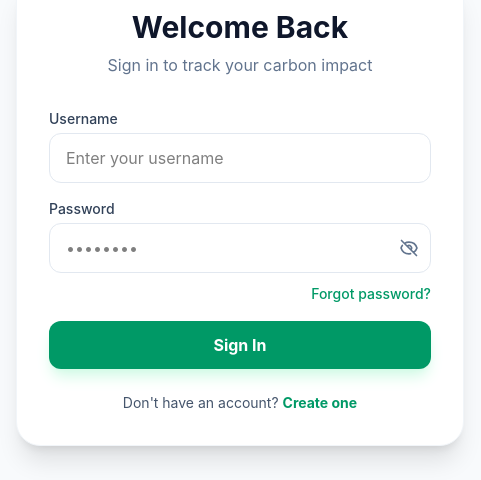
Test: LoginPage › disables submit button while submitting
In the field with placeholder "Enter your username": (240, 158) [49,133,431,183], type "testuser"
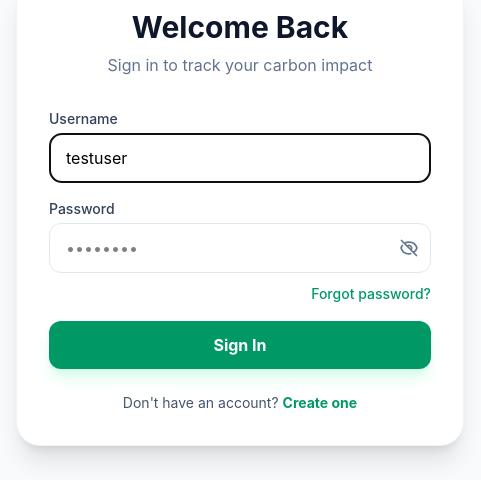
In the password field with placeholder "••••••••": (240, 248) [49,223,431,273], type "testpass"
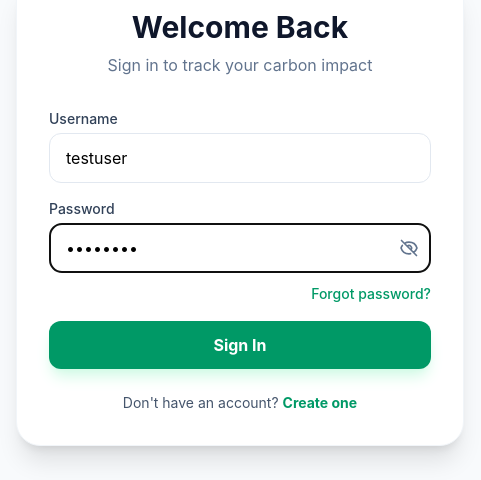
Click the button "Sign In": (240, 345) [49,321,431,369]
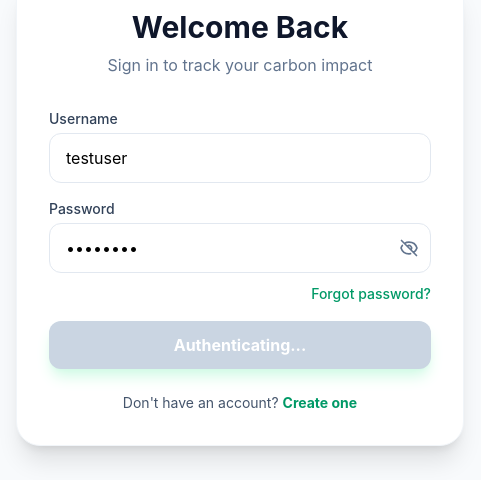
Result: the button named "sign in" is disabled at [49,321,431,369]
